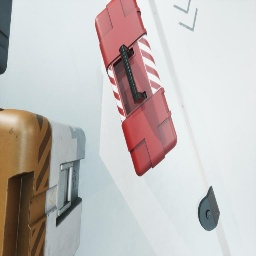FirstAidBox ,: (94, 0, 177, 176)
